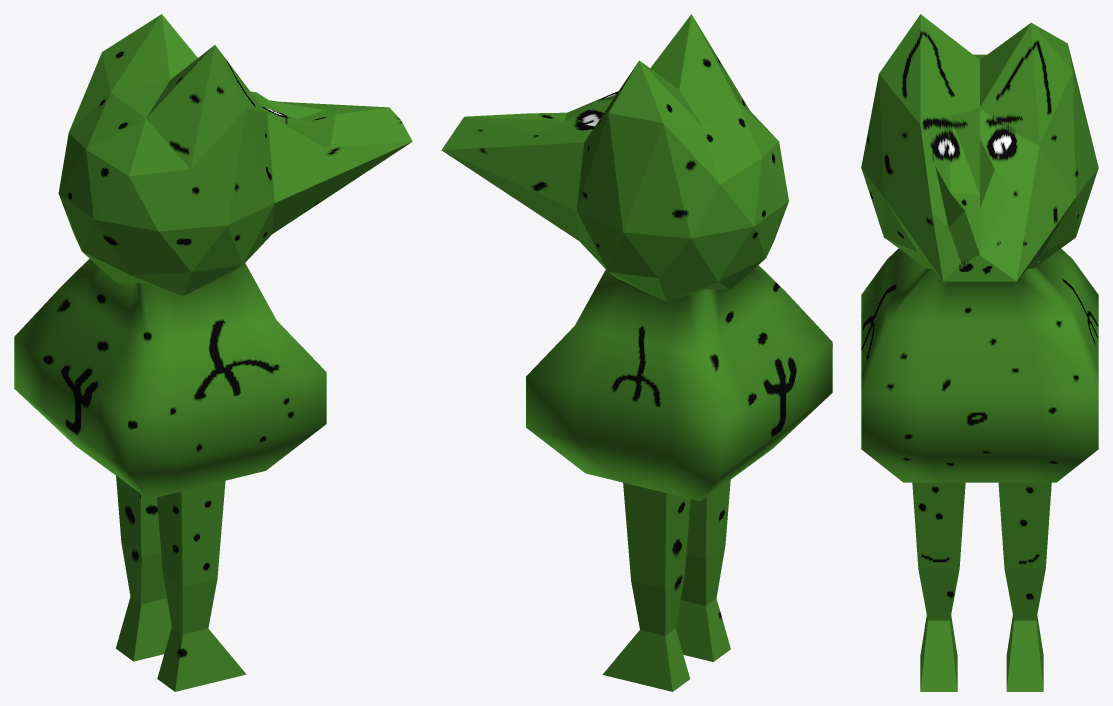
File: goblin.glb
3 views of the same model, side by side, from view 1: azimuth 30°, elevation 25°; view 2: azimuth 150°, elevation 25°; view 3: azimuth 270°, elevation 25° (orthographic). The views are drawn at different scales.
Visible parts, largest first — view 1: Icosphere; view 2: Icosphere; view 3: Icosphere.
Part boxes in pixels (left/top/right/bottom): Icosphere: left=14, top=14, right=412, bottom=691; Icosphere: left=441, top=14, right=832, bottom=691; Icosphere: left=861, top=14, right=1098, bottom=691.
Size of the model in its own units: 3.27 by 6.15 by 2.
1 material, 1 textured.
